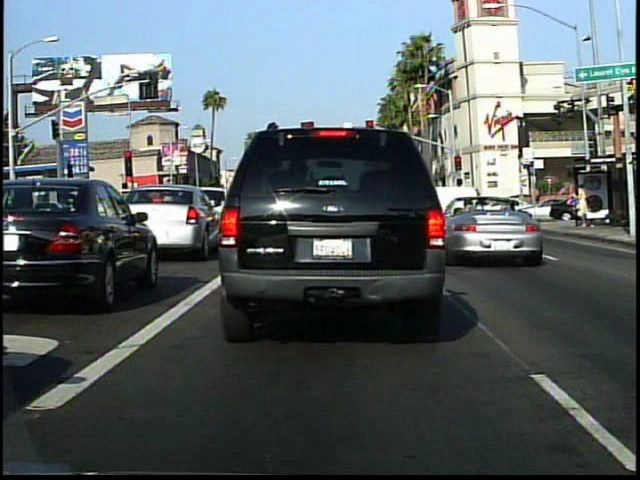person: (569, 181, 594, 231)
